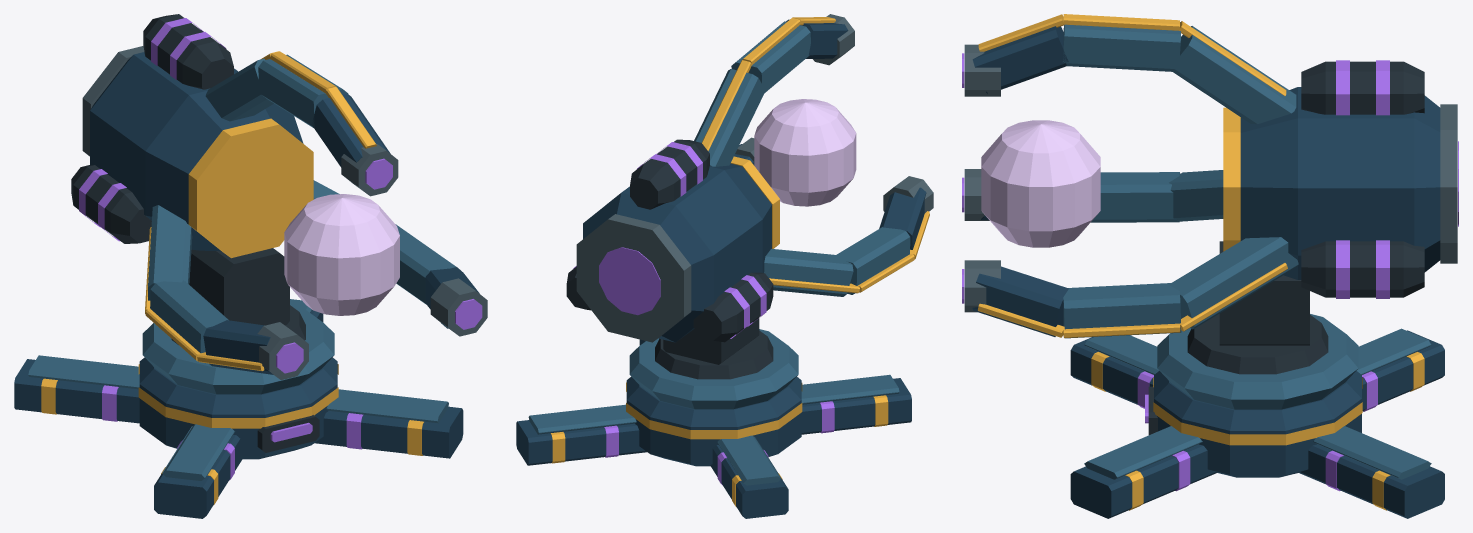
Rendered from PlasmaLevel3.obj.
The picture shows the model from 3 angles, left to right: view 1: azimuth 30°, elevation 25°; view 2: azimuth 150°, elevation 25°; view 3: azimuth 270°, elevation 25°; orthographic projection. The views are drawn at different scales.
Visible parts, largest first — view 1: MainReactor, ReactorFrontBand, ChargedOrb, FoundationHub, HeavySupport, UpperHub, Stabilizer0, RadialCapacitor0, Stabilizer2, RadialCapacitor1, FocusingArm1_1, Stabilizer3 (+25 smaller); view 2: MainReactor, ChargedOrb, ReactorRearArmor, FoundationHub, UpperHub, RearEnergyDisc, Stabilizer1, RadialCapacitor0, FocusingArm0_0, FocusingArm1_0, Turntable, Stabilizer3 (+18 smaller); view 3: MainReactor, ChargedOrb, FoundationHub, UpperHub, FocusingArm0_0, FocusingArm2_0, HeavySupport, RadialCapacitor2, FocusingArm2_1, FocusingArm0_1, RadialCapacitor0, Turntable (+28 smaller).
Part boxes in pixels (left/top/right/bottom): MainReactor: left=90, top=52, right=303, bottom=251; ReactorFrontBand: left=188, top=118, right=313, bottom=258; ChargedOrb: left=284, top=194, right=399, bottom=315; FoundationHub: left=139, top=357, right=337, bottom=459; HeavySupport: left=189, top=248, right=289, bottom=325; UpperHub: left=142, top=303, right=334, bottom=394; Stabilizer0: left=314, top=406, right=463, bottom=458; RadialCapacitor0: left=143, top=14, right=233, bottom=89; Stabilizer2: left=14, top=359, right=139, bottom=423; RadialCapacitor1: left=71, top=165, right=151, bottom=243; FocusingArm1_1: left=150, top=280, right=228, bottom=363; Stabilizer3: left=154, top=433, right=242, bottom=518; MainReactor: left=583, top=163, right=771, bottom=342; ChargedOrb: left=754, top=99, right=856, bottom=206; ReactorRearArmor: left=576, top=214, right=691, bottom=342; FoundationHub: left=626, top=376, right=801, bottom=466; UpperHub: left=629, top=329, right=798, bottom=409; RearEnergyDisc: left=599, top=247, right=660, bottom=315; Stabilizer1: left=516, top=420, right=646, bottom=465; RadialCapacitor0: left=630, top=139, right=709, bottom=209; FocusingArm0_0: left=694, top=69, right=765, bottom=166; FocusingArm1_0: left=764, top=249, right=853, bottom=296; Turntable: left=655, top=330, right=773, bottom=379; Stabilizer3: left=801, top=378, right=911, bottom=434; MainReactor: left=1240, top=87, right=1440, bottom=279; ChargedOrb: left=981, top=120, right=1100, bottom=247; FoundationHub: left=1154, top=371, right=1361, bottom=477; UpperHub: left=1157, top=314, right=1358, bottom=409; FocusingArm0_0: left=1172, top=26, right=1296, bottom=124; FocusingArm2_0: left=1169, top=237, right=1298, bottom=329; HeavySupport: left=1219, top=241, right=1309, bottom=345; RadialCapacitor2: left=1301, top=241, right=1424, bottom=297; FocusingArm2_1: left=1063, top=283, right=1181, bottom=338; FocusingArm0_1: left=1062, top=22, right=1180, bottom=71; RadialCapacitor0: left=1301, top=61, right=1424, bottom=114; Turntable: left=1187, top=314, right=1328, bottom=374.
Size of the model in its own units: 2.16 by 2.72 by 2.86.
